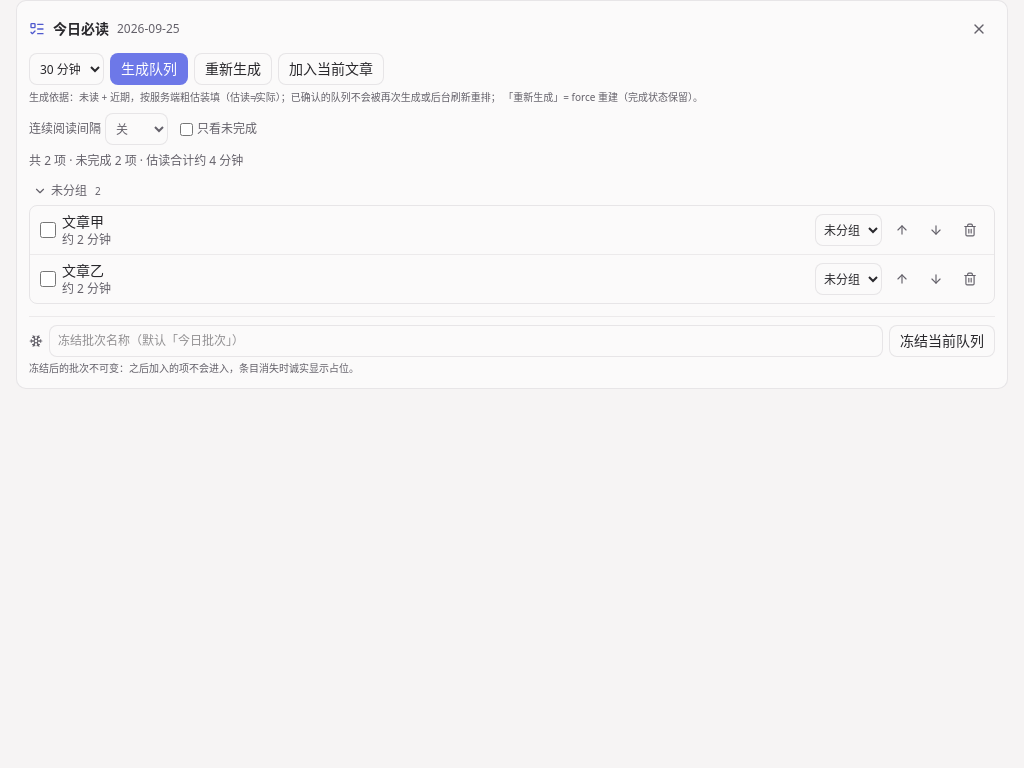
Test: N046 revision conflict merge (panel) › 409 → per-item merge dialog; unmodified item is not a conflict
expect the button "加入当前文章" is shown: met, box [278, 53, 384, 85]
Click the checkbox named "标记「文章甲」完成". click: x=48, y=230
box: [40, 222, 56, 238]
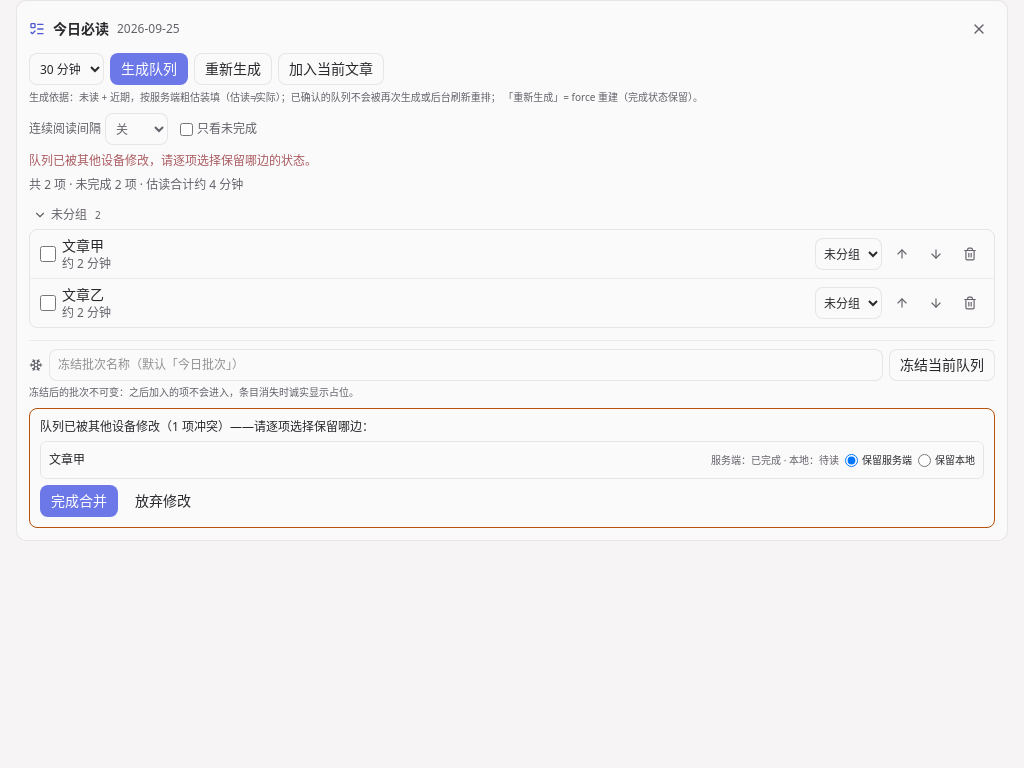
expect the element with test id "queue-merge-dialog" does not show "文章乙": met
expect the dialog with test id "queue-merge-dialog" shows "文章甲": met, box [49, 451, 85, 468]
// 选择「保留本地」→ 完成合并 → keep-mine 携带本地 pending 状态。
Click the radio button labelled "保留本地". click: x=924, y=460
box: [918, 454, 931, 466]
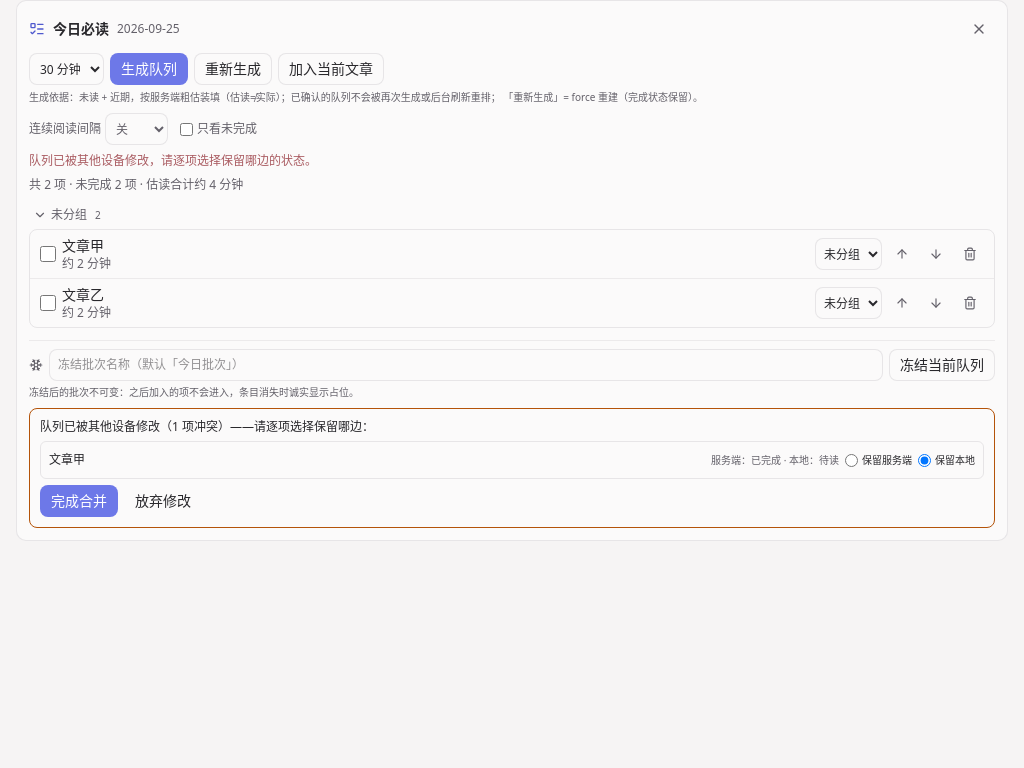
Click the button "完成合并". click: x=79, y=501
box: [40, 485, 118, 517]
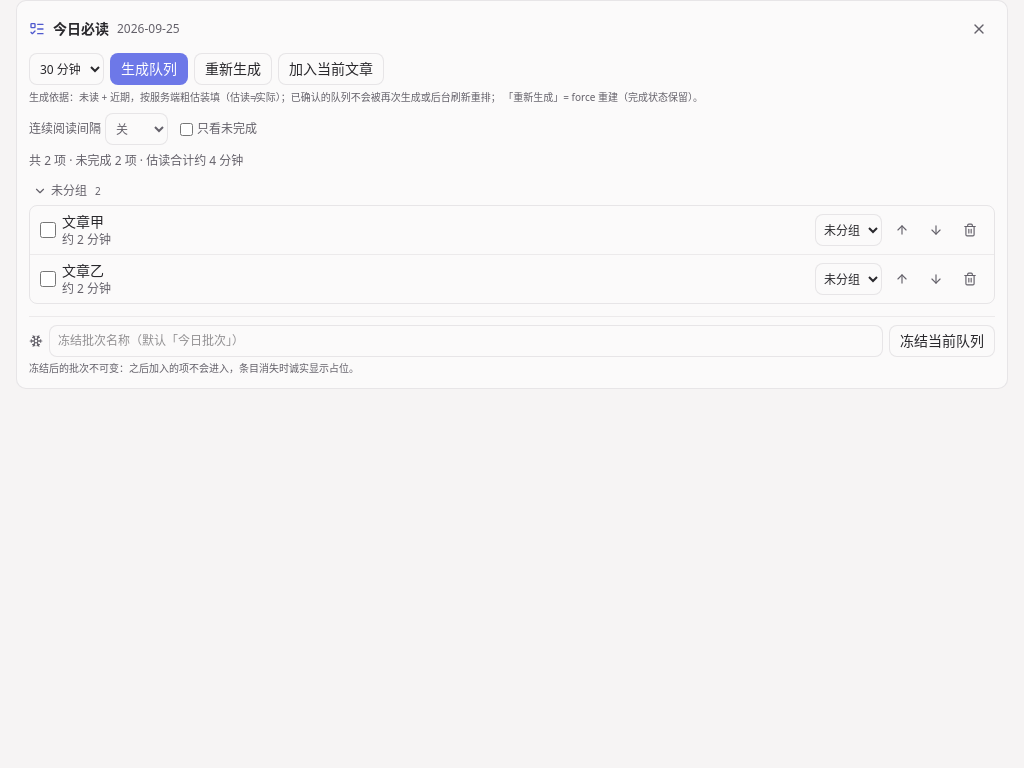
expect the dialog with test id "queue-merge-dialog" is gone: met
